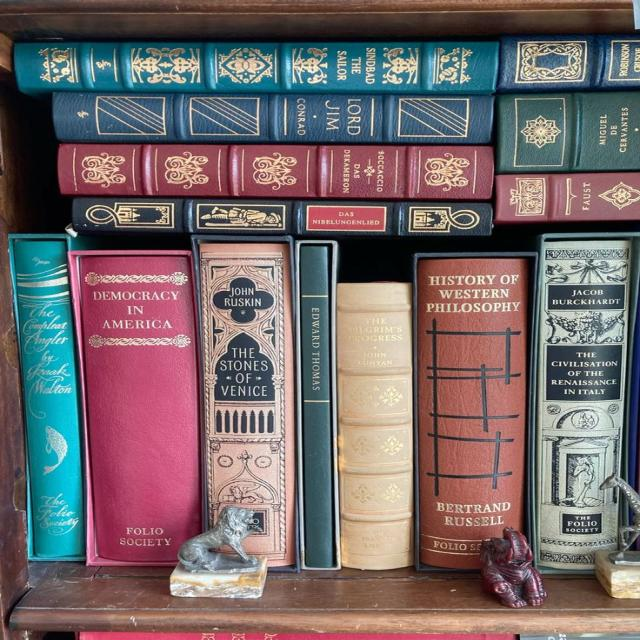book: (78, 256, 204, 563), (418, 258, 524, 570), (540, 239, 631, 573), (202, 242, 292, 565), (13, 40, 498, 92), (58, 146, 495, 197), (11, 240, 80, 558), (338, 284, 414, 569), (54, 95, 493, 142), (72, 199, 493, 236), (500, 95, 640, 173), (300, 243, 330, 570), (501, 36, 640, 89), (496, 176, 640, 222)
